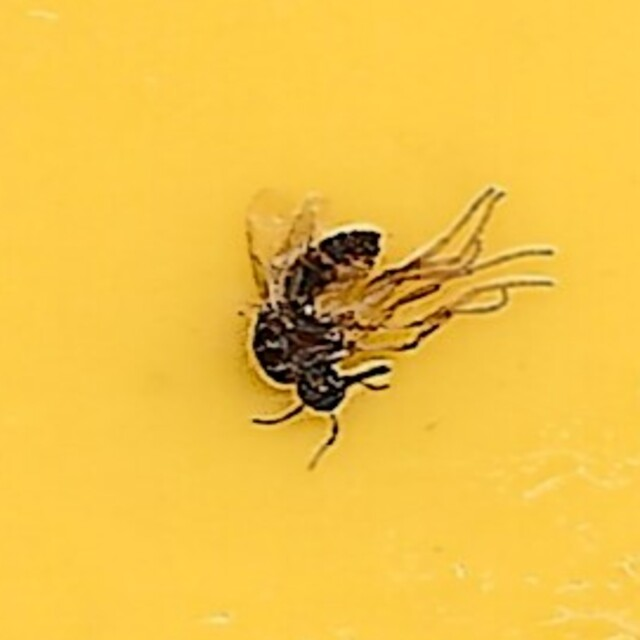Brachycera: (236, 203, 404, 437)
